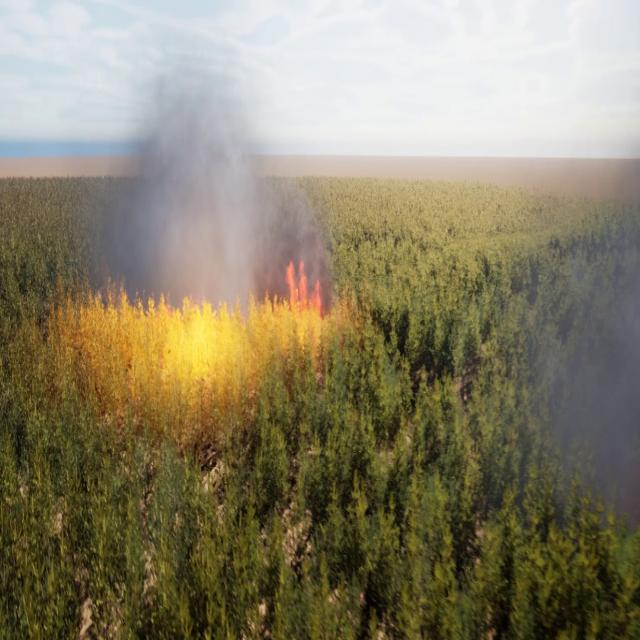fire: (79, 295, 341, 360), (286, 260, 326, 307)
smoke: (84, 48, 329, 314), (494, 230, 640, 534)
